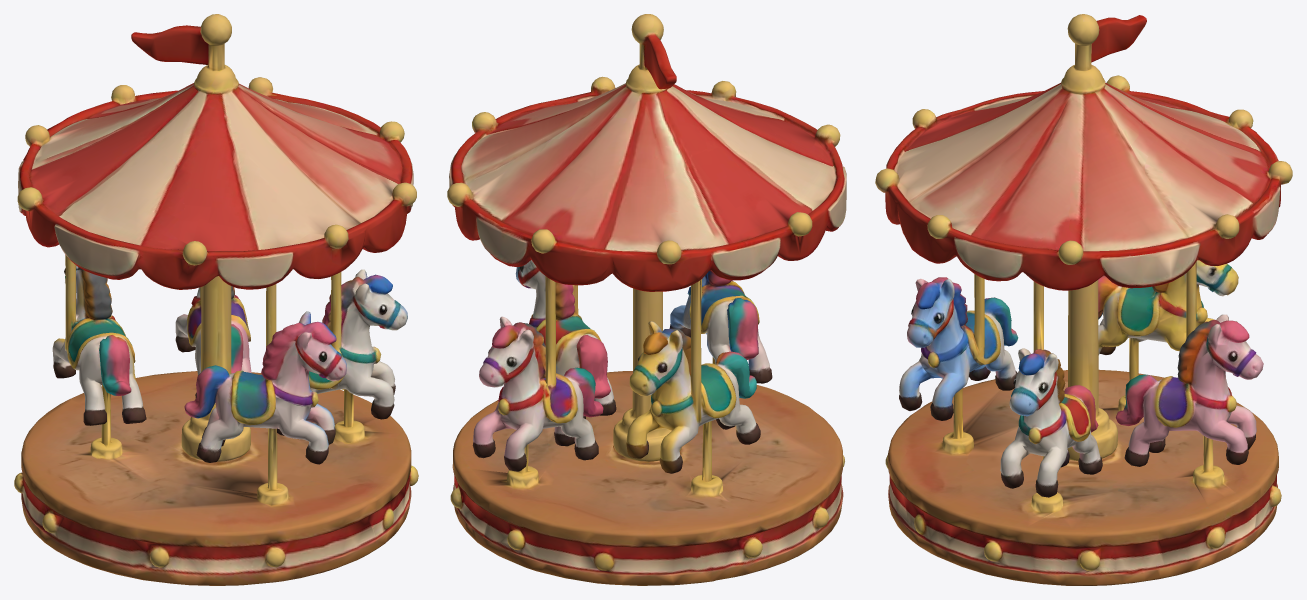
Rendered from carousel.glb.
3 renders of one model, left to right at view 1: azimuth 30°, elevation 25°; view 2: azimuth 150°, elevation 25°; view 3: azimuth 270°, elevation 25°, orthographic.
Parts seen in each view (by area): view 1: tripo_node_84c509f9-0a50-4906-a8ab-35a136057d42; view 2: tripo_node_84c509f9-0a50-4906-a8ab-35a136057d42; view 3: tripo_node_84c509f9-0a50-4906-a8ab-35a136057d42.
Part boxes in pixels (box(x1,y1,x2,y2)): tripo_node_84c509f9-0a50-4906-a8ab-35a136057d42: box(14, 14, 418, 585); tripo_node_84c509f9-0a50-4906-a8ab-35a136057d42: box(447, 14, 846, 585); tripo_node_84c509f9-0a50-4906-a8ab-35a136057d42: box(875, 14, 1292, 585).
Size of the model in its own units: 0.7695 by 1 by 0.7724.
Materials: 1 (1 with a texture image).
